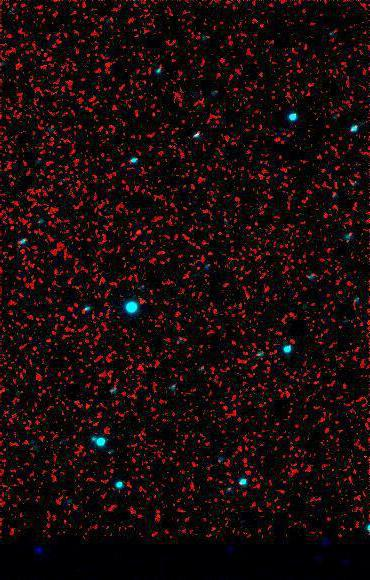star: (124, 216, 154, 246)
